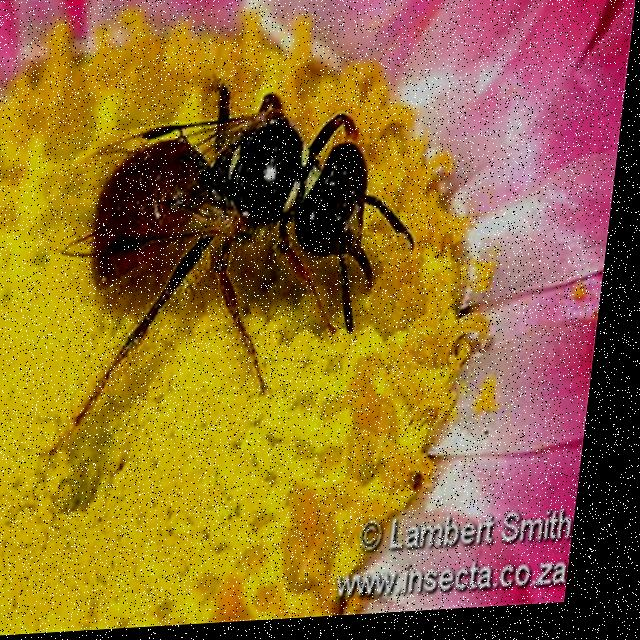Allodapula: (31, 55, 440, 483)
